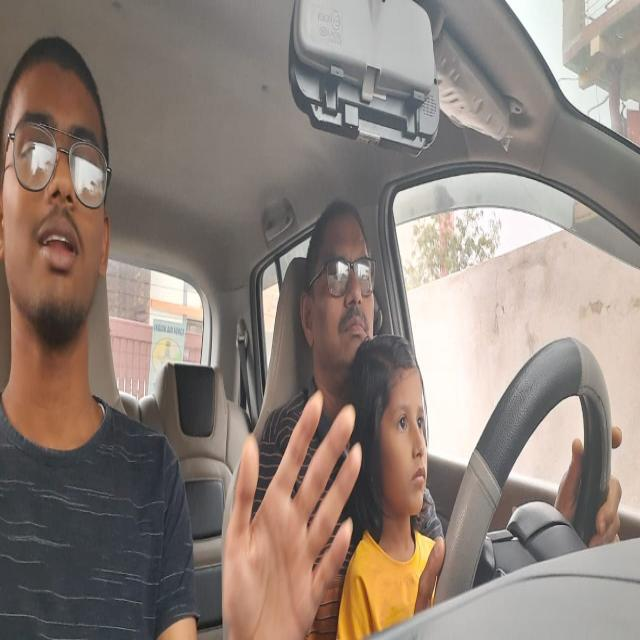child: (368, 340, 432, 520)
person: (1, 32, 119, 360), (297, 204, 389, 343)
